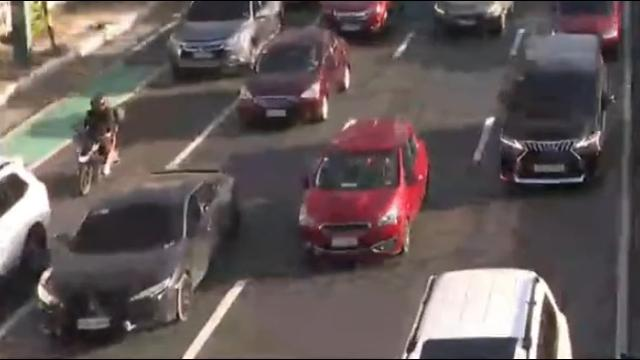car: (42, 164, 236, 334), (298, 118, 432, 266), (396, 268, 572, 360), (239, 29, 351, 122), (164, 0, 287, 72), (315, 0, 402, 39), (431, 0, 515, 35)
motorcycle: (73, 94, 126, 195)
van: (497, 31, 609, 192)
